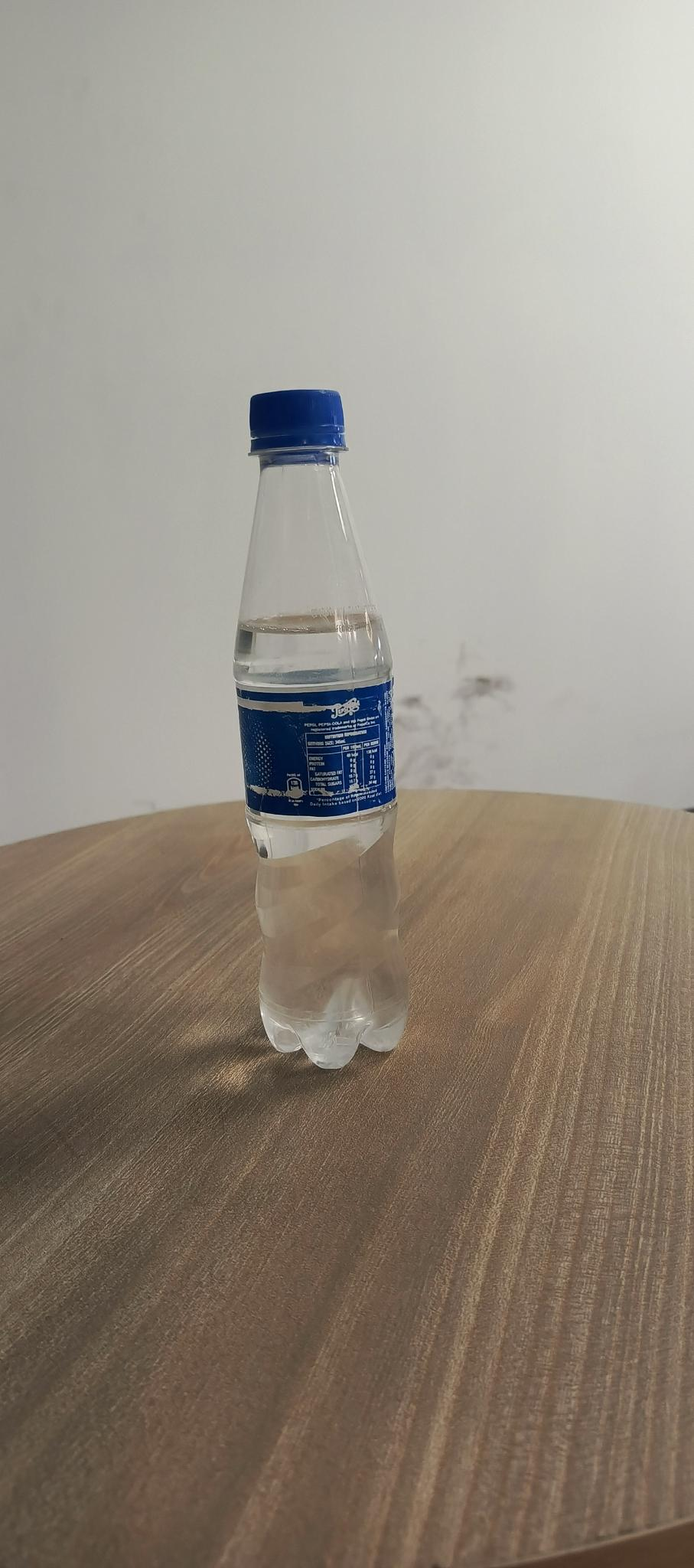Pepsi Bottle: (222, 384, 454, 1103), (222, 384, 432, 1070)
